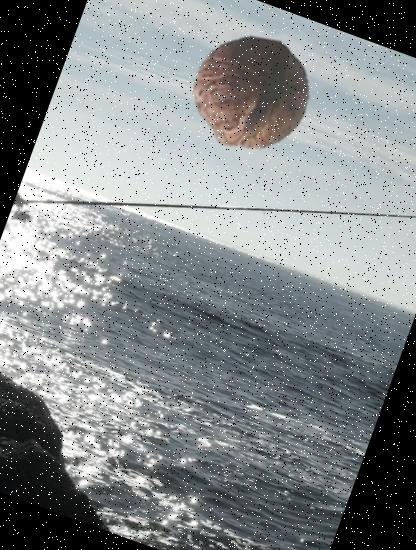Walnut: (174, 15, 327, 169)
